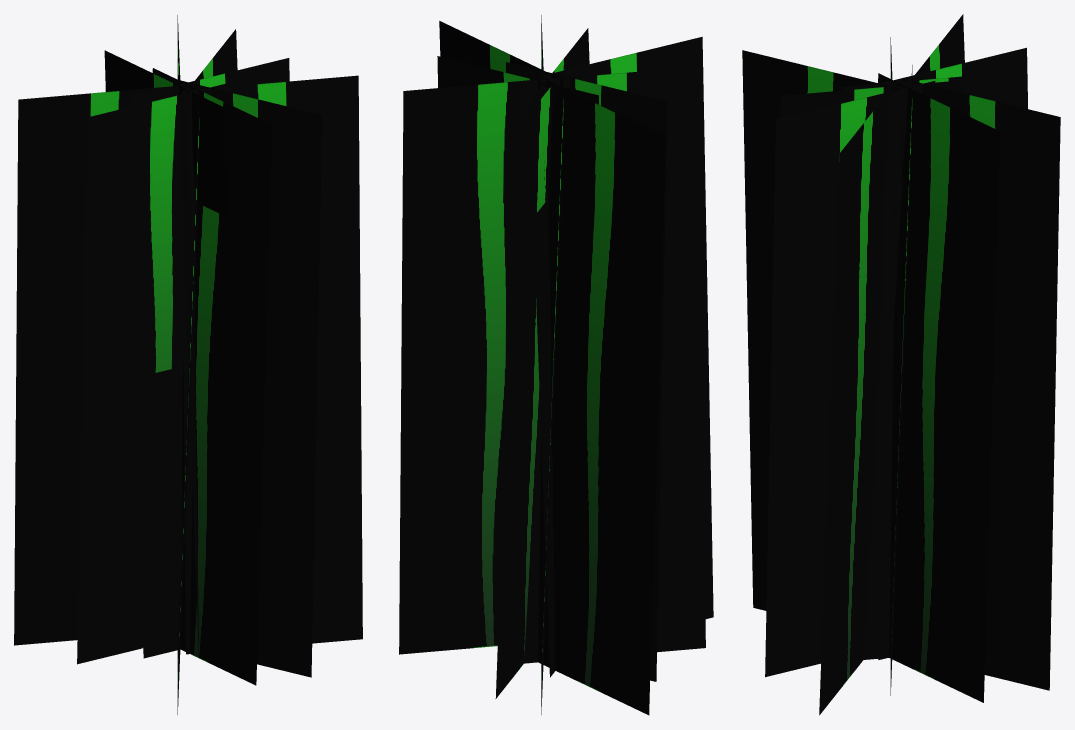
File: grass_clump.glb
3 views of the same model, side by side, from view 1: azimuth 30°, elevation 25°; view 2: azimuth 150°, elevation 25°; view 3: azimuth 270°, elevation 25° (orthographic). The views are drawn at different scales.
Visible parts, largest first — view 1: Plane.011; view 2: Plane.011; view 3: Plane.011.
Boxes of the visible parts, x1,y1,x2,y2 form: Plane.011: [14, 15, 362, 714]; Plane.011: [399, 15, 713, 715]; Plane.011: [742, 14, 1060, 715].
Bounding box in the file's own units: 0.5012 × 0.9494 × 0.4842.
1 material, 1 textured.
